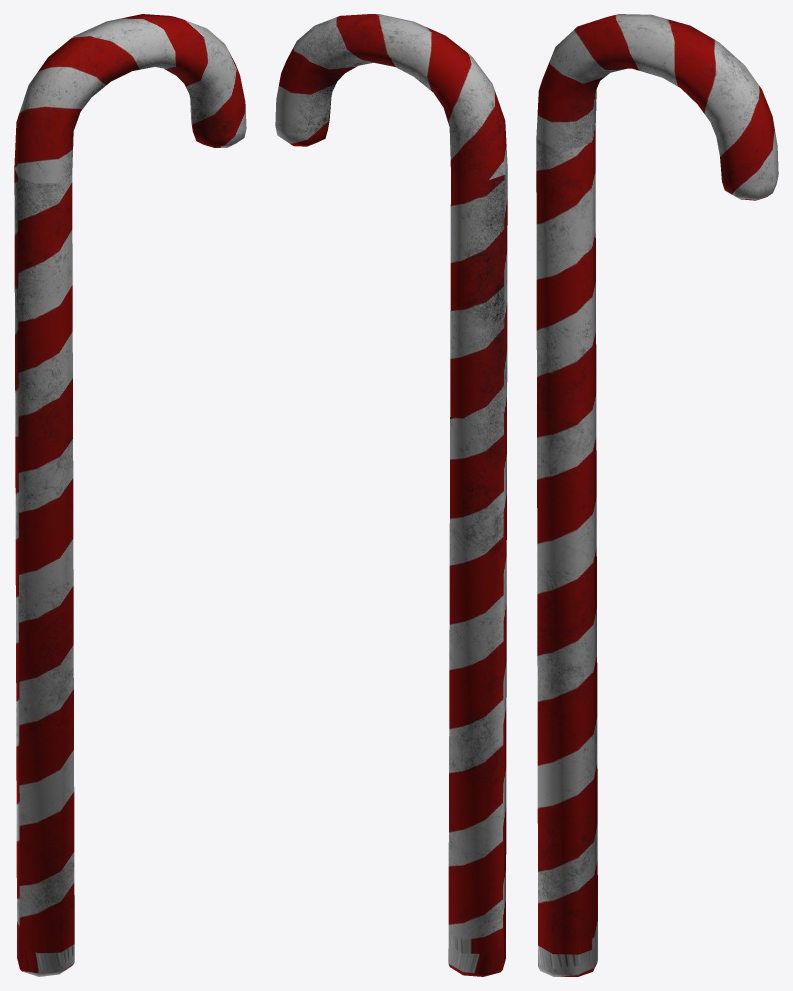
Rendered from curved candy.fbx.
3 views of the same model, side by side, from view 1: azimuth 30°, elevation 25°; view 2: azimuth 150°, elevation 25°; view 3: azimuth 330°, elevation 25° (orthographic). The views are drawn at different scales.
Parts seen in each view (by area): view 1: RetopoGroup1; view 2: RetopoGroup1; view 3: RetopoGroup1.
Boxes of the visible parts, x1=… form: RetopoGroup1: x1=14, y1=14, x2=246, y2=976; RetopoGroup1: x1=275, y1=14, x2=507, y2=976; RetopoGroup1: x1=536, y1=14, x2=778, y2=976.
Bounding box in the file's own units: 462 × 1817 × 106.
